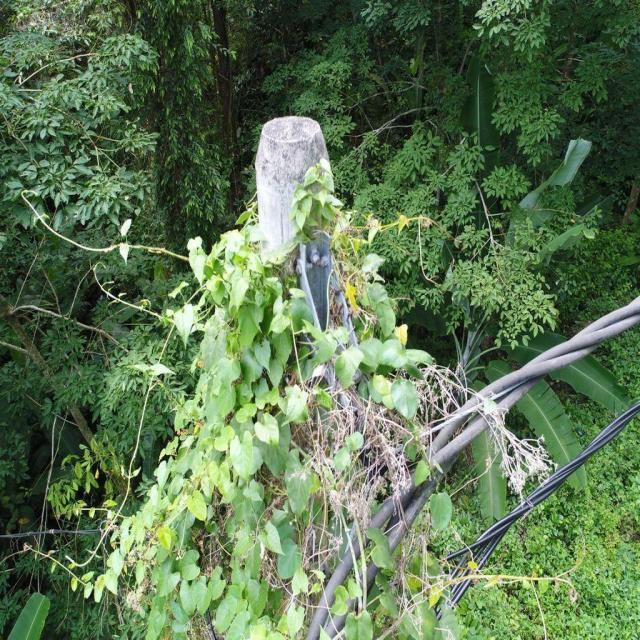critical vegetation: (80, 144, 462, 631)
